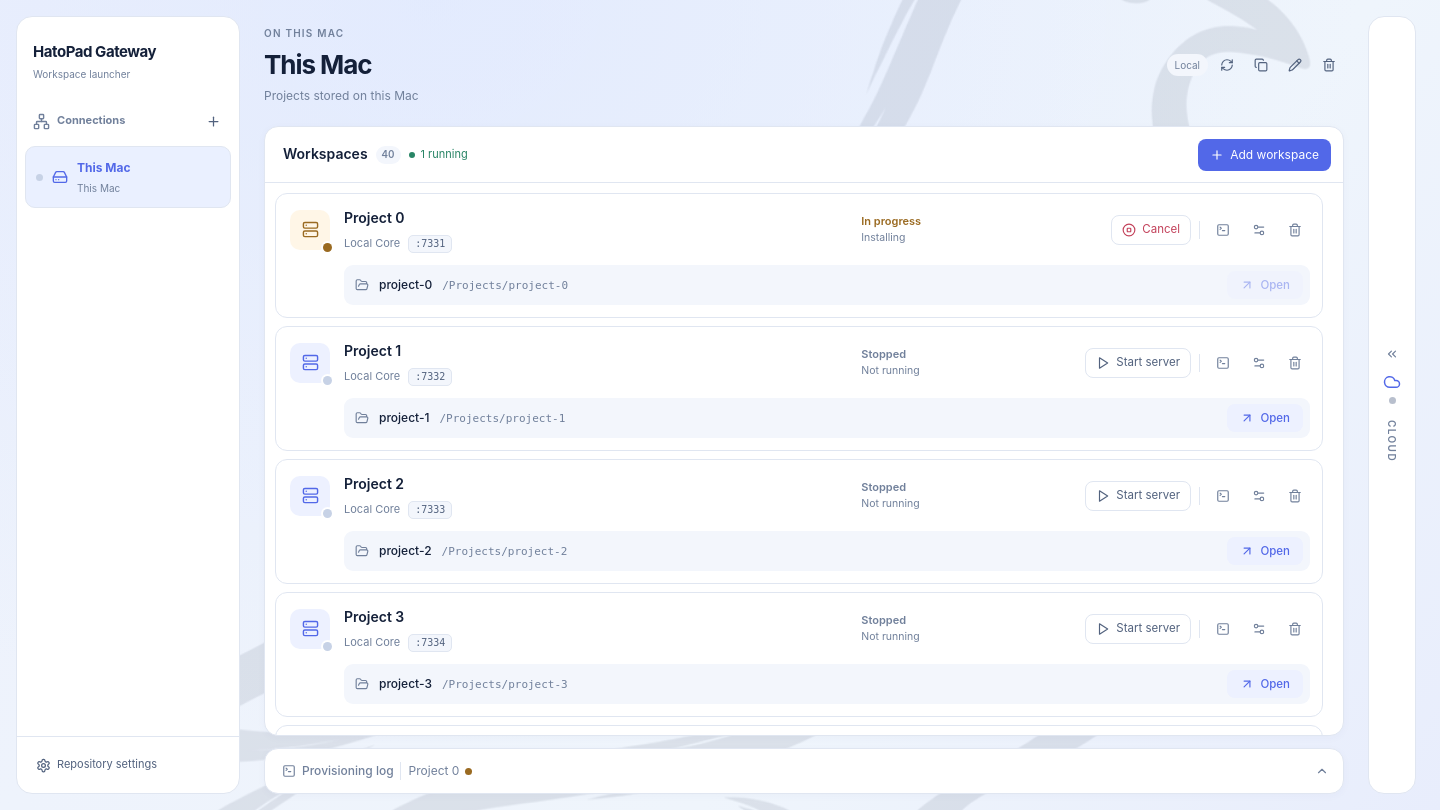
Test: Gateway workspace page › keeps many workspaces and long provisioning output in separate named regions
This screenshot has width=1440, height=810.
Expected: the text "FIRST OUTPUT" is not shown
Click the button "Provisioning log Project 0": (377, 771) [271,755,483,787]
(page scrolled)
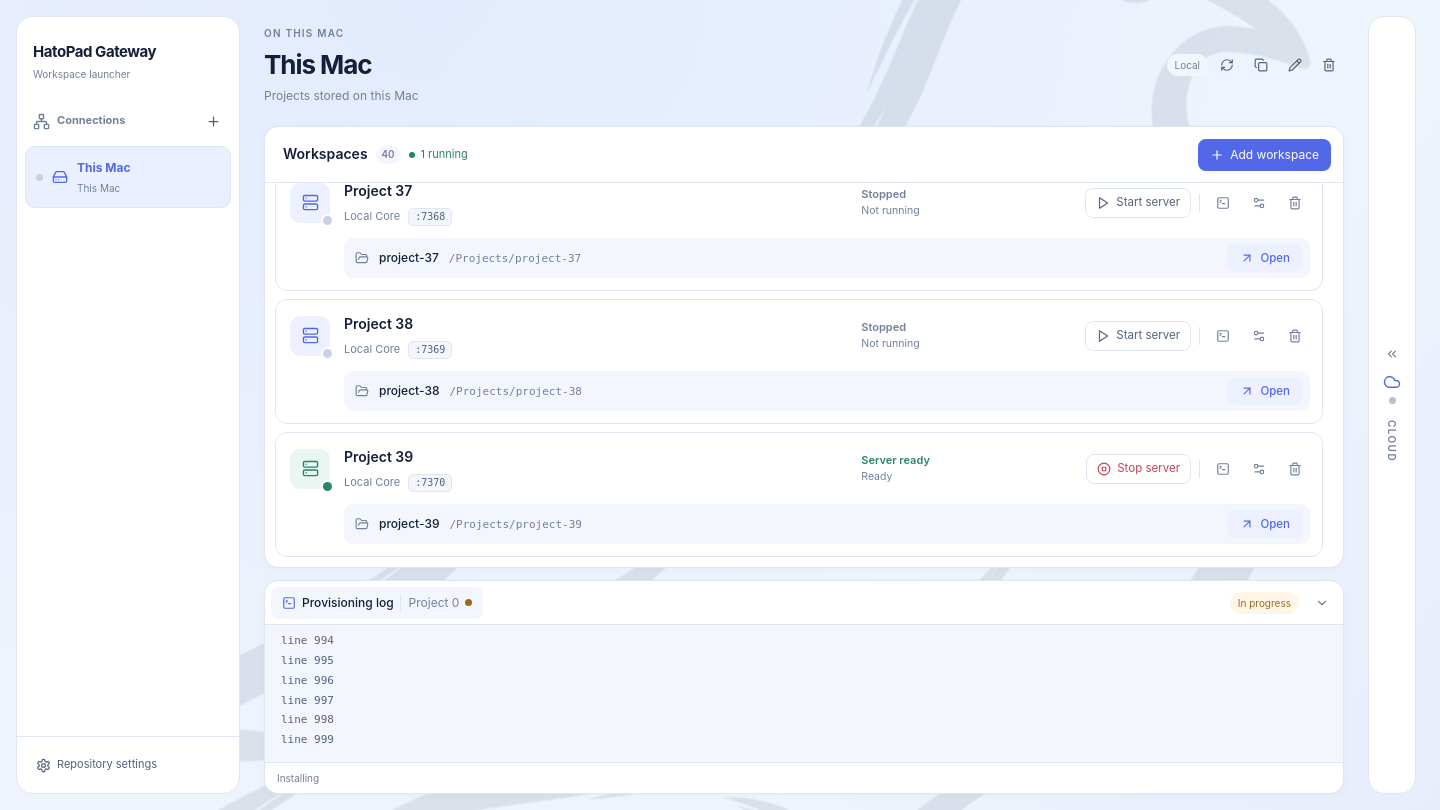
Click the button named "View provisioning log for Project 39": (1223, 469) [1208,454,1238,484]
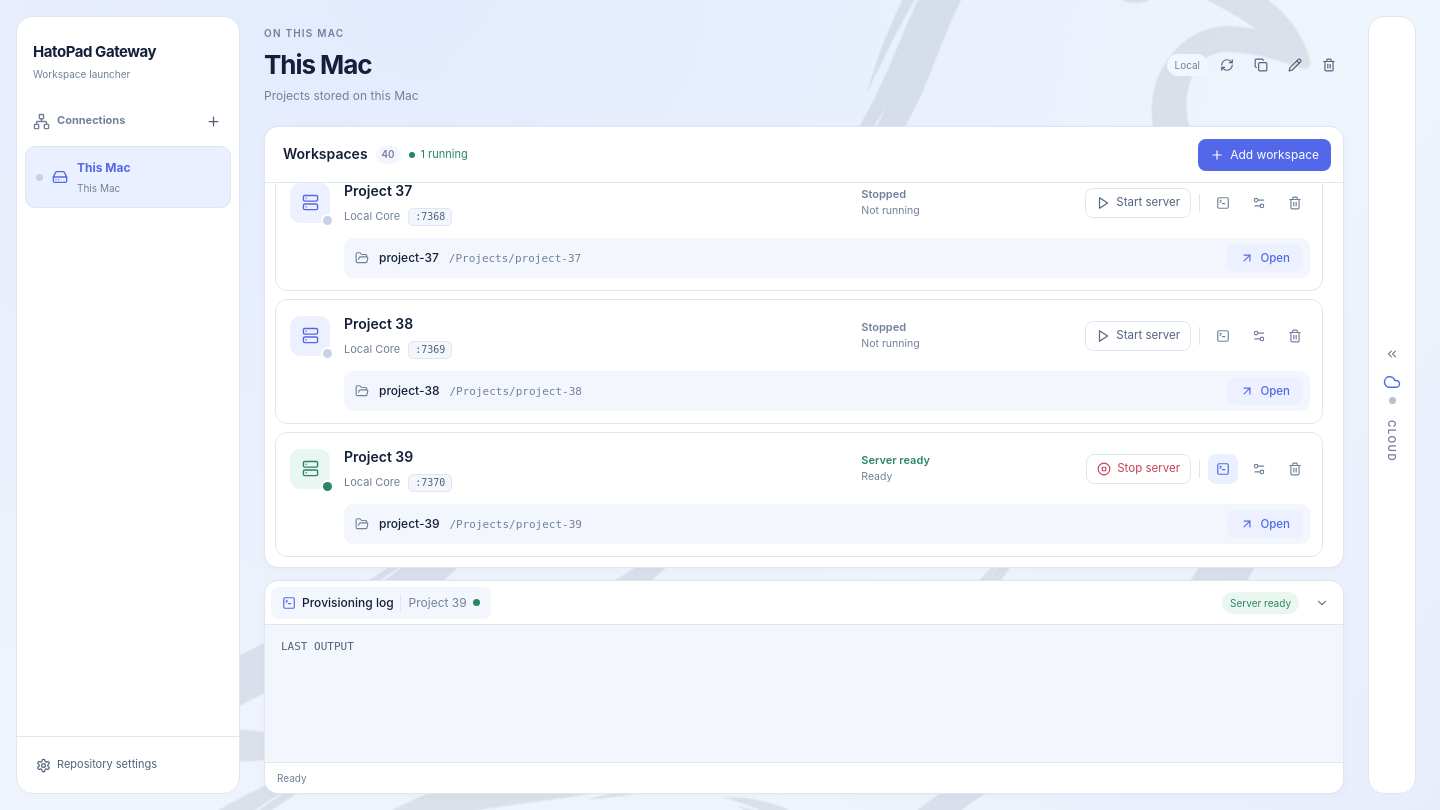
Expected: the text named "Provisioning output for Project 39" reads "LAST OUTPUT", [281,640,354,653]
